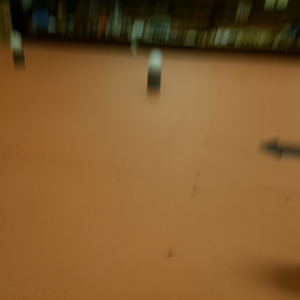obstacle: (145, 47, 163, 91), (11, 32, 26, 66)
start: (259, 134, 300, 163)
